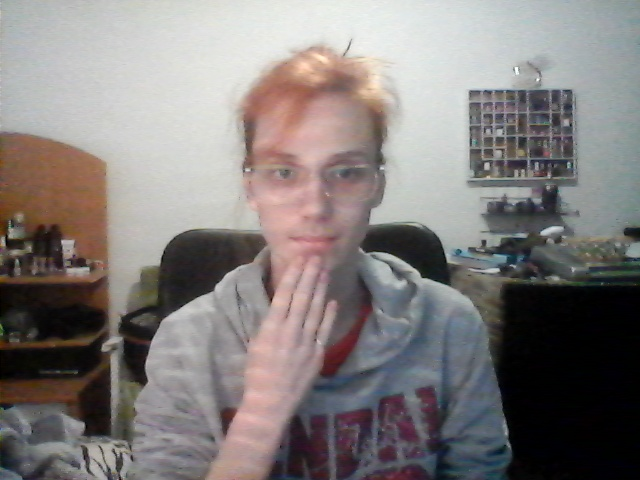dakujem: (222, 251, 365, 404)
